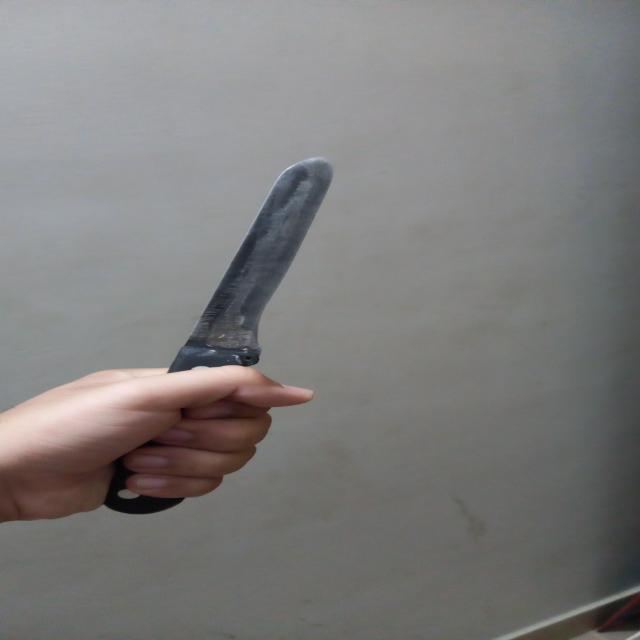Knife: (90, 153, 359, 514)
